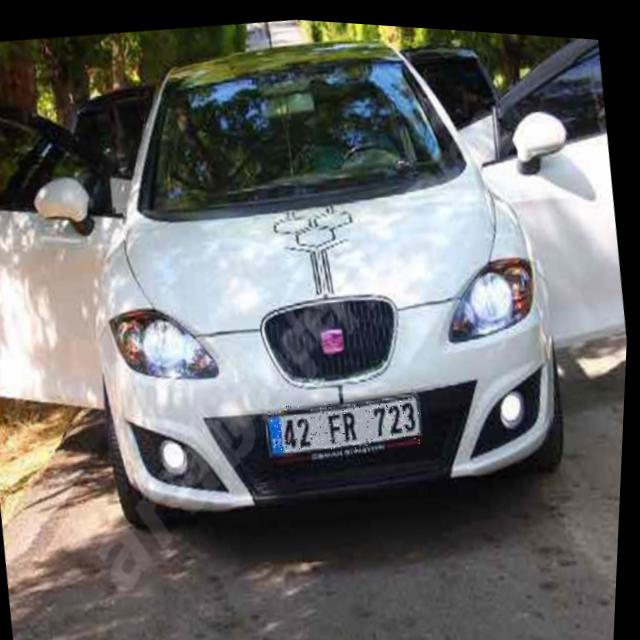license_plate: (267, 382, 428, 459)
